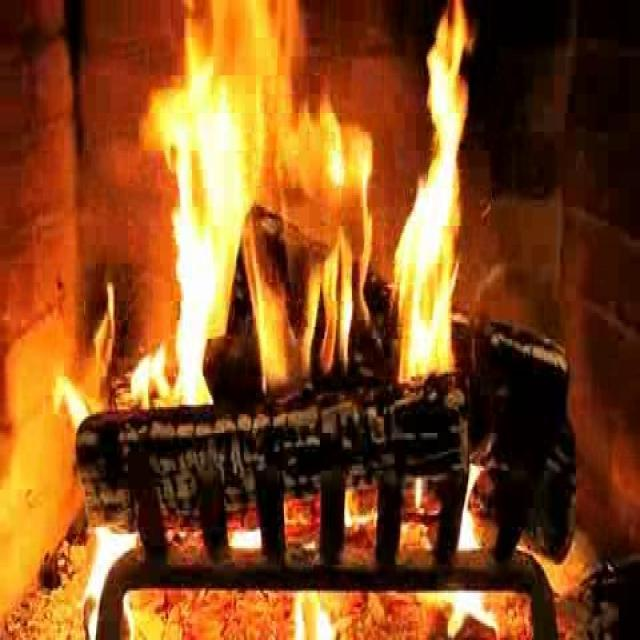Fire: (140, 12, 460, 405)
